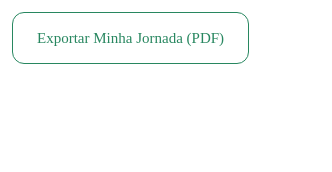
it: ExportJourneyButton › mostra erro quando a geração falha
Click the button "Exportar Minha Jornada (PDF)" at (130, 38), box 12,12 -> 249,64
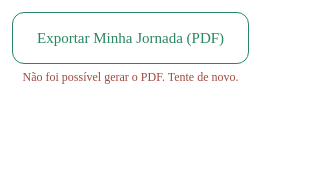
Expected: the text "Não foi possível gerar o PDF. Tente de novo." is shown, 12,70 -> 249,85
